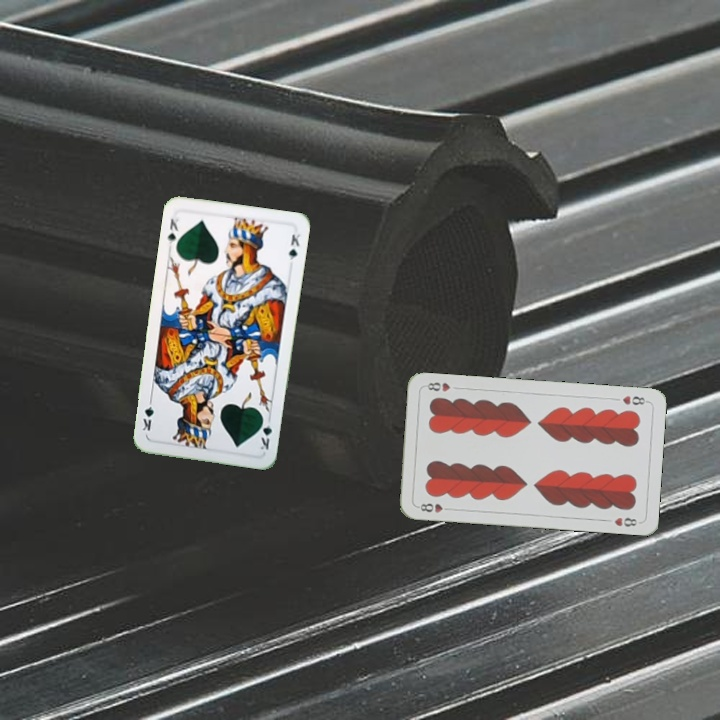GK: (163, 214, 183, 251), (256, 413, 274, 452)
H8: (414, 499, 454, 515), (618, 392, 650, 408)
